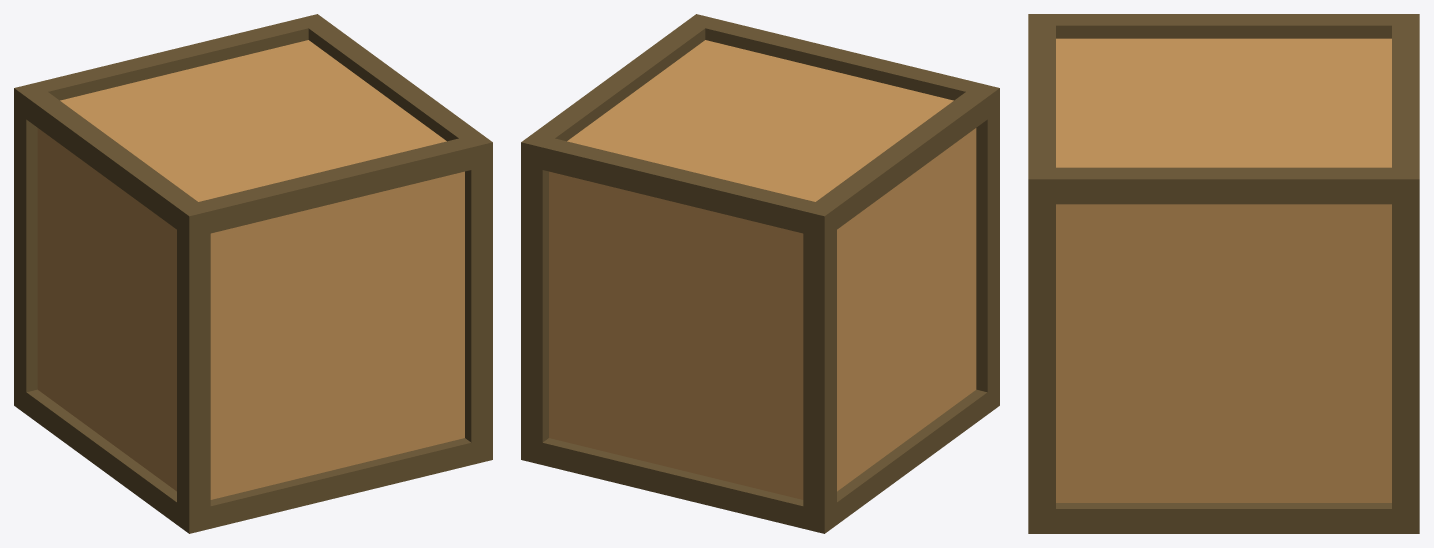
The model's file is Low_Poly_Crate_01.fbx.
The picture shows the model from 3 angles, left to right: view 1: azimuth 30°, elevation 25°; view 2: azimuth 150°, elevation 25°; view 3: azimuth 270°, elevation 25°; orthographic projection. The views are drawn at different scales.
Parts seen in each view (by area): view 1: Low_Poly_Crate_01; view 2: Low_Poly_Crate_01; view 3: Low_Poly_Crate_01.
Part boxes in pixels (x1,y1,x2,y2): Low_Poly_Crate_01: [14, 14, 492, 533]; Low_Poly_Crate_01: [521, 14, 999, 533]; Low_Poly_Crate_01: [1028, 14, 1419, 533].
Bounding box in the file's own units: 100 × 100 × 100.
